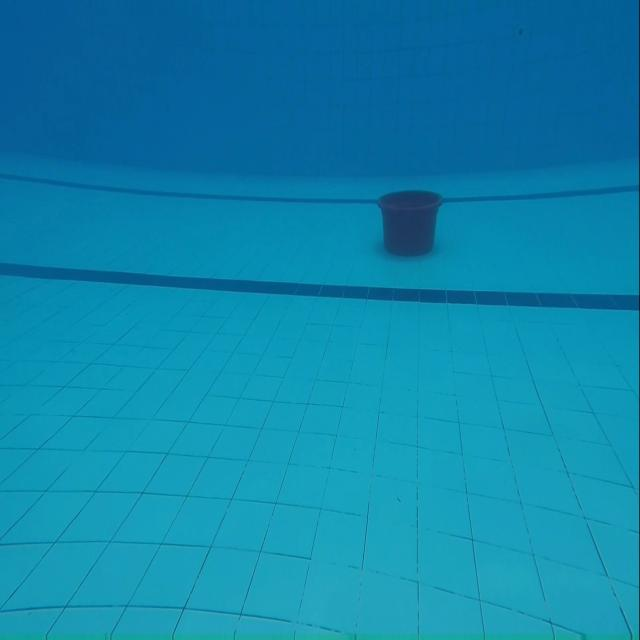ember: (377, 188, 443, 255)
